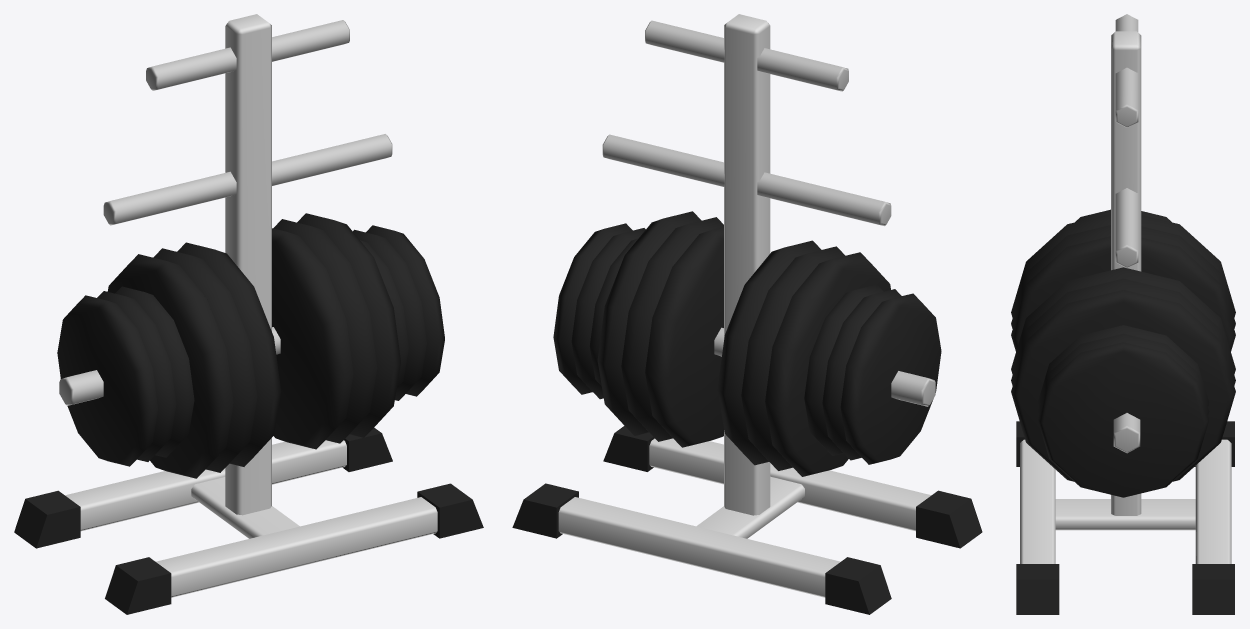
Rendered from training_003.fbx.
3 views of the same model, side by side, from view 1: azimuth 30°, elevation 25°; view 2: azimuth 150°, elevation 25°; view 3: azimuth 270°, elevation 25° (orthographic). The views are drawn at different scales.
Visible parts, largest first — view 1: training_003; view 2: training_003; view 3: training_003.
Boxes of the visible parts, <box> form: training_003: <box>14,14,483,614</box>; training_003: <box>512,14,982,614</box>; training_003: <box>1011,14,1235,614</box>.
Size of the model in its own units: 83.82 by 46.08 by 111.
